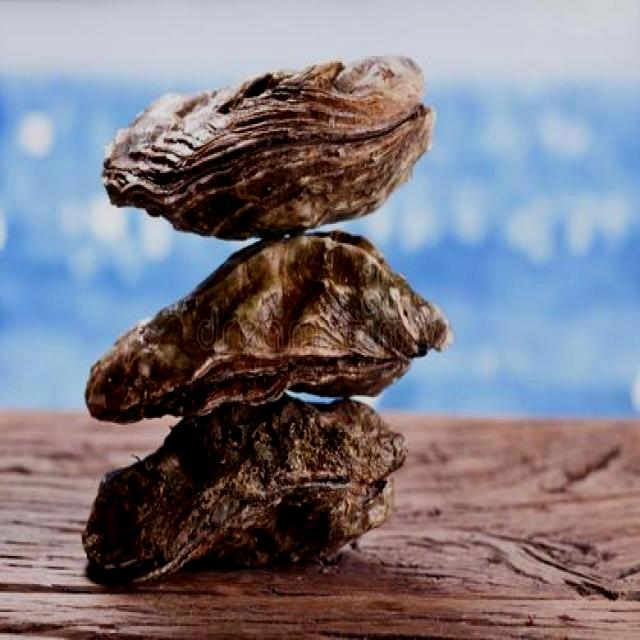Oyster-Closed: (84, 234, 454, 426), (101, 54, 438, 241), (80, 399, 408, 590)
